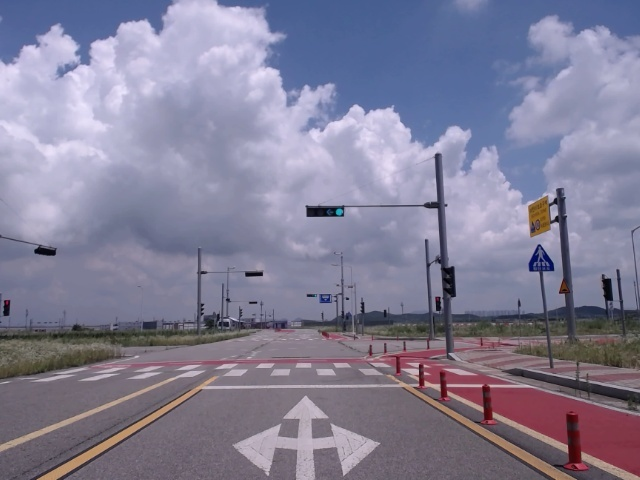all_green_4: (306, 204, 347, 217)
